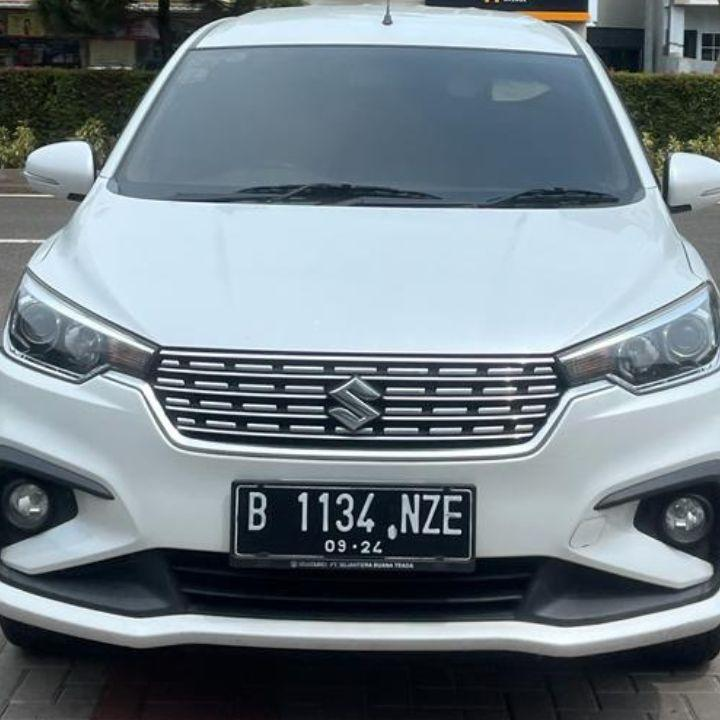plat: (238, 489, 474, 563)
